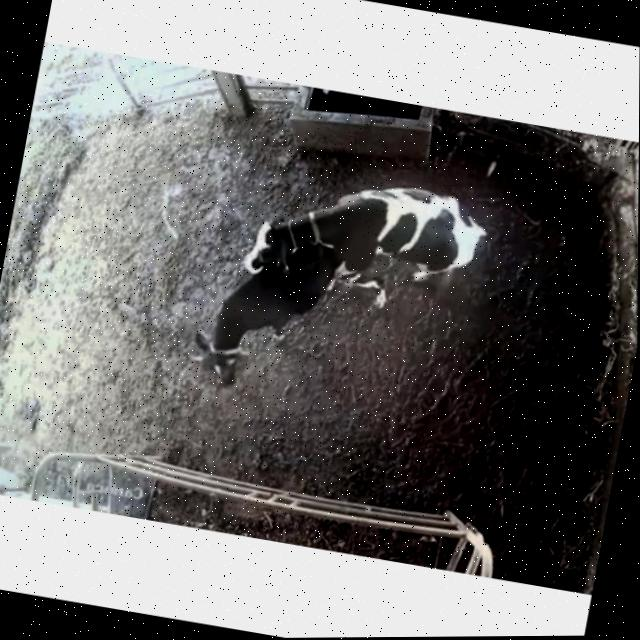ride: (228, 148, 499, 325)
